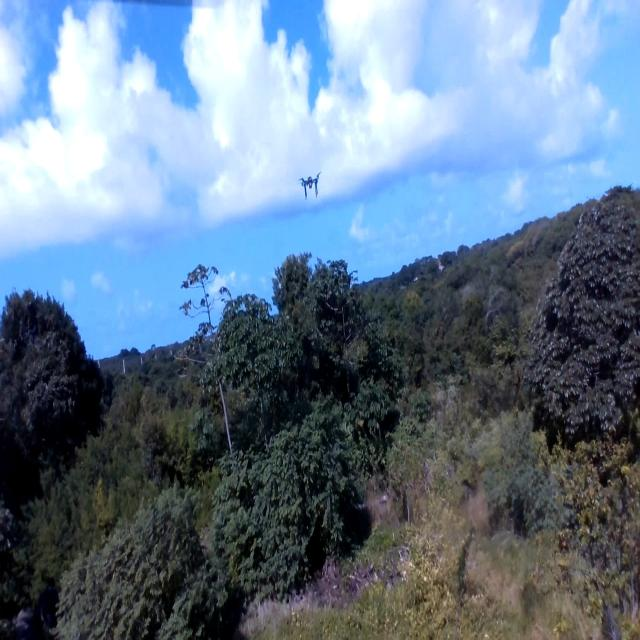-uav-: (300, 167, 322, 200)
